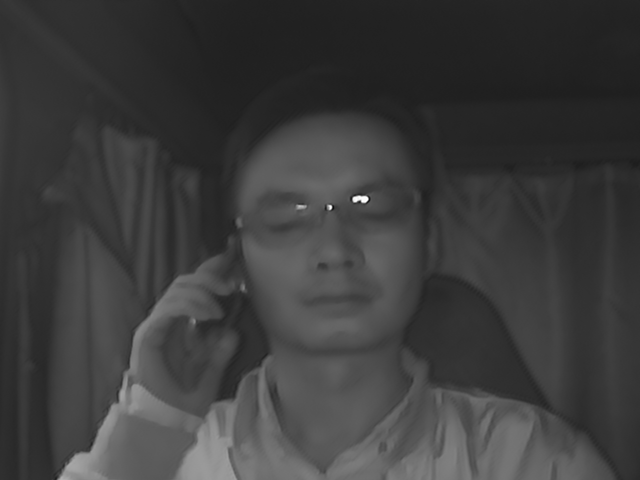hand: (121, 256, 247, 404)
